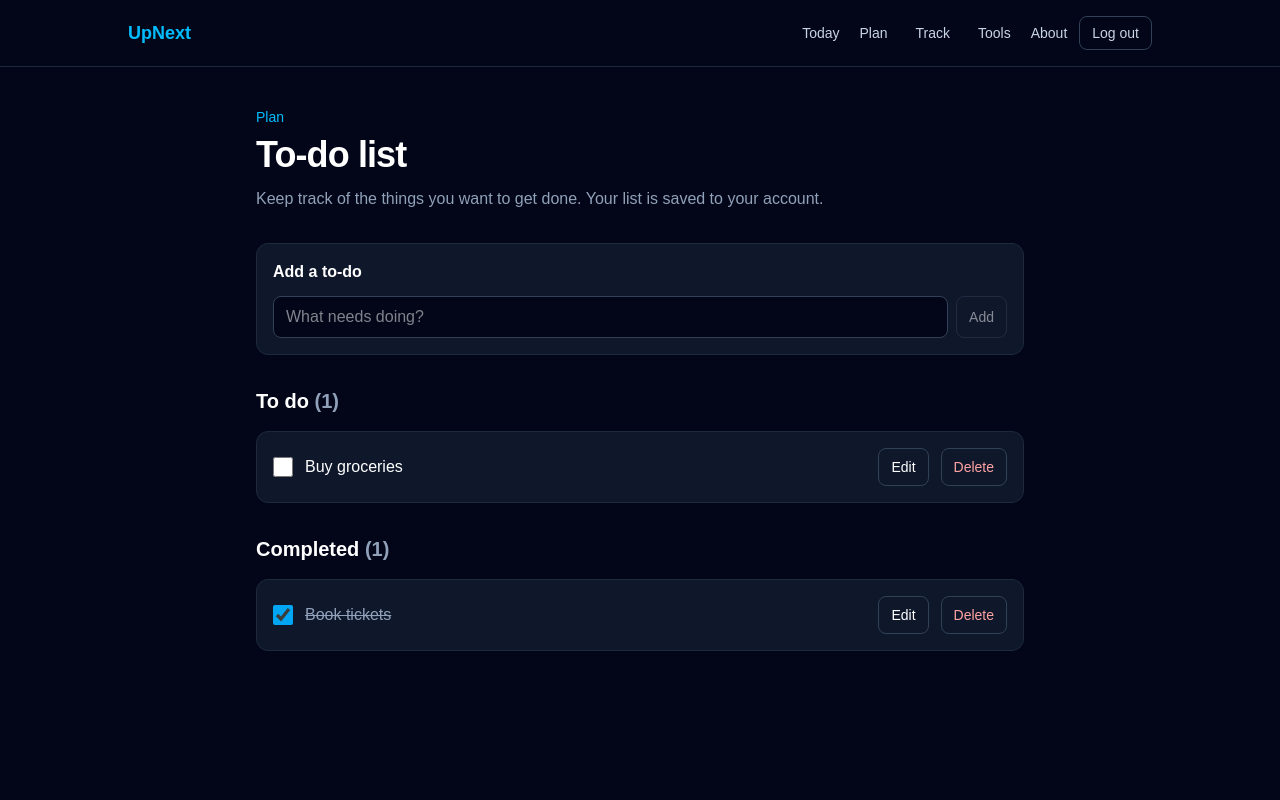
Test: To-do list page › keeps input available for retry if saving fails
Type "Call dentist" into the field labelled "Add a to-do" at (611, 317), box [273,296,948,338]
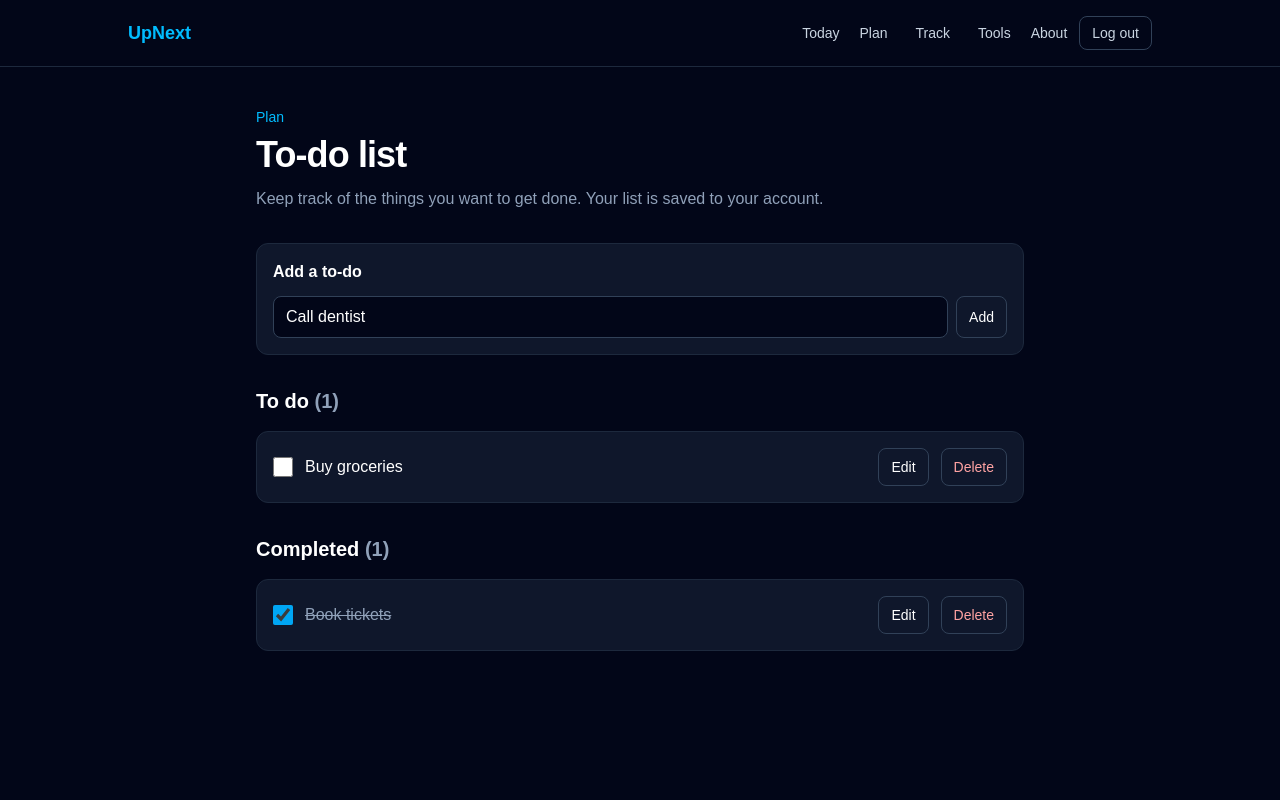
Click the button "Add" at (982, 317), box [956,296,1007,338]
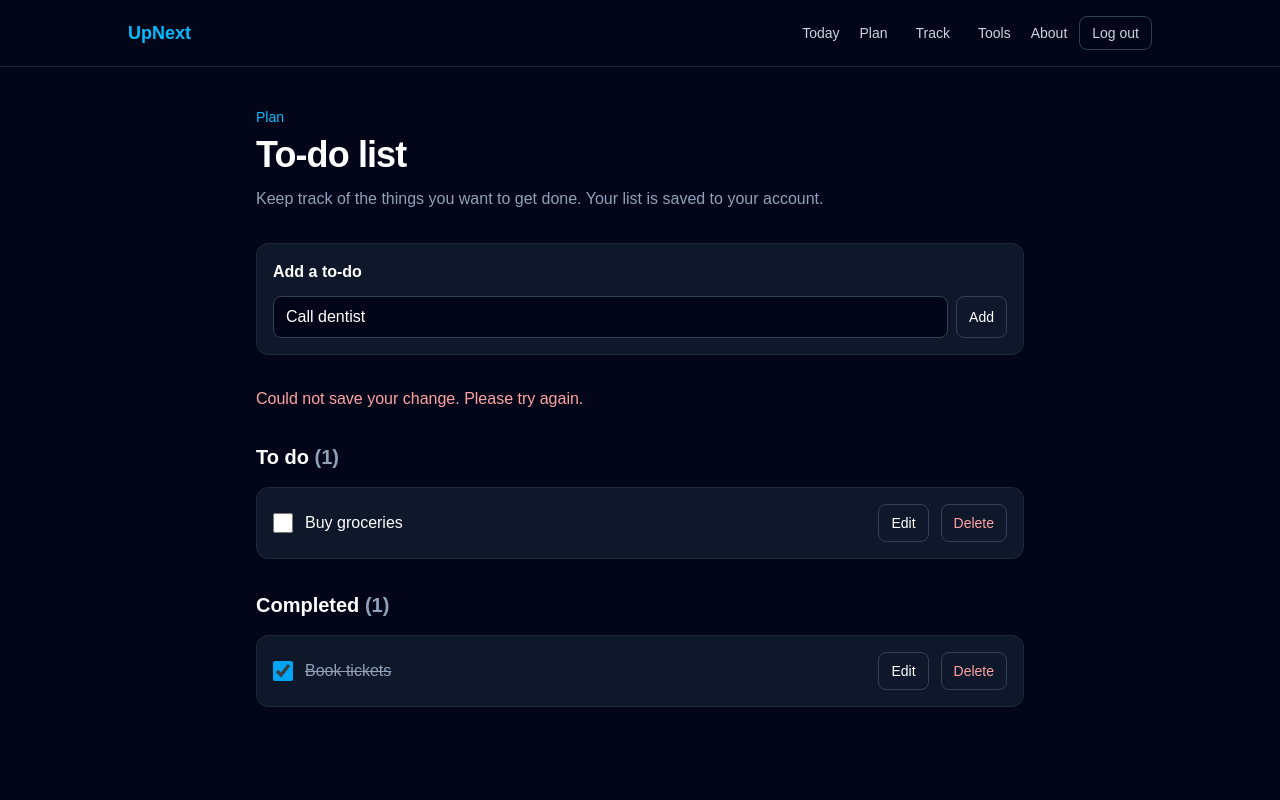
Result: the message shows "Could not save" at [256,390,583,407]
